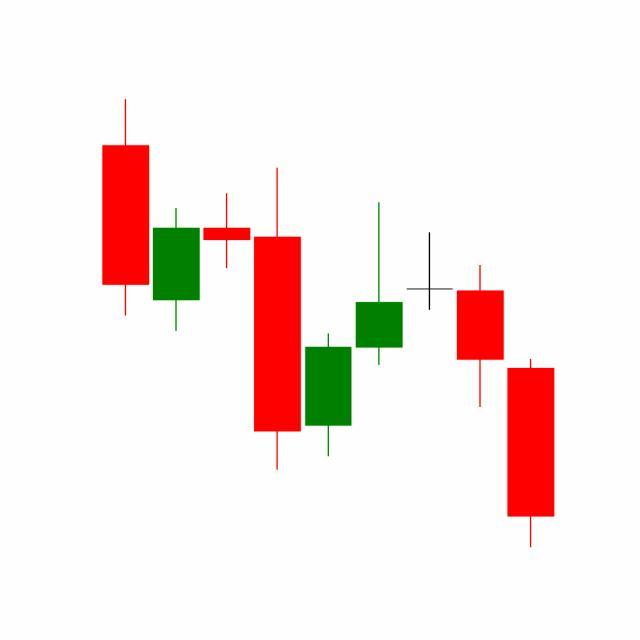Hikkake Pattern: (252, 165, 506, 474)
